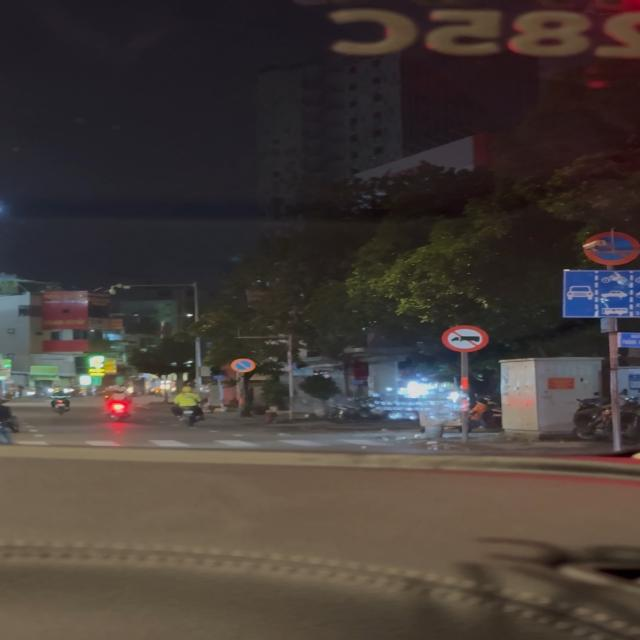Bien bao cam do xe: (230, 358, 259, 374)
Bien bao cam xe so-mi ro-mooc: (440, 324, 492, 354)
